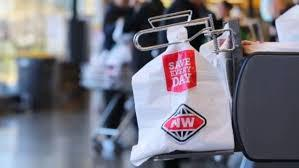Plastic: (127, 45, 234, 158)
